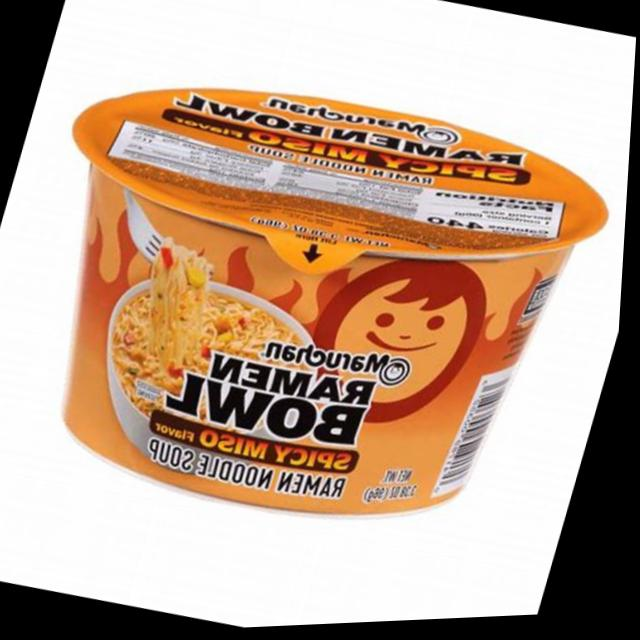Caja: (0, 0, 638, 605)
